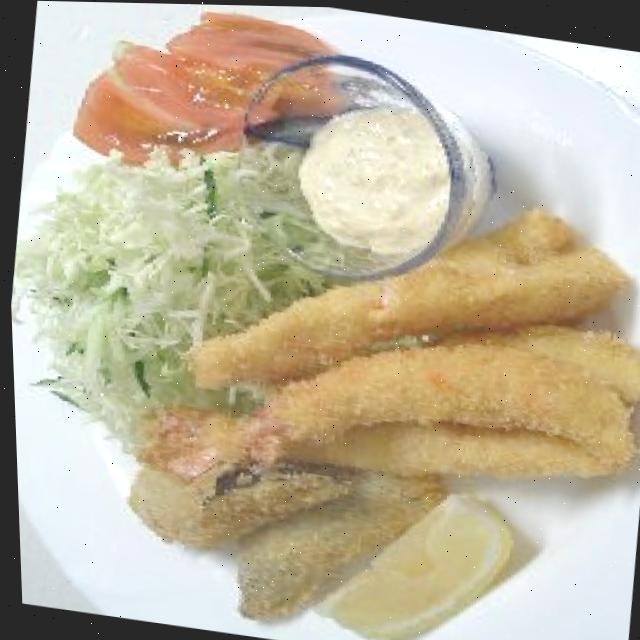炸货点心: (110, 132, 640, 588)
熟制海鲜: (110, 132, 640, 588)
